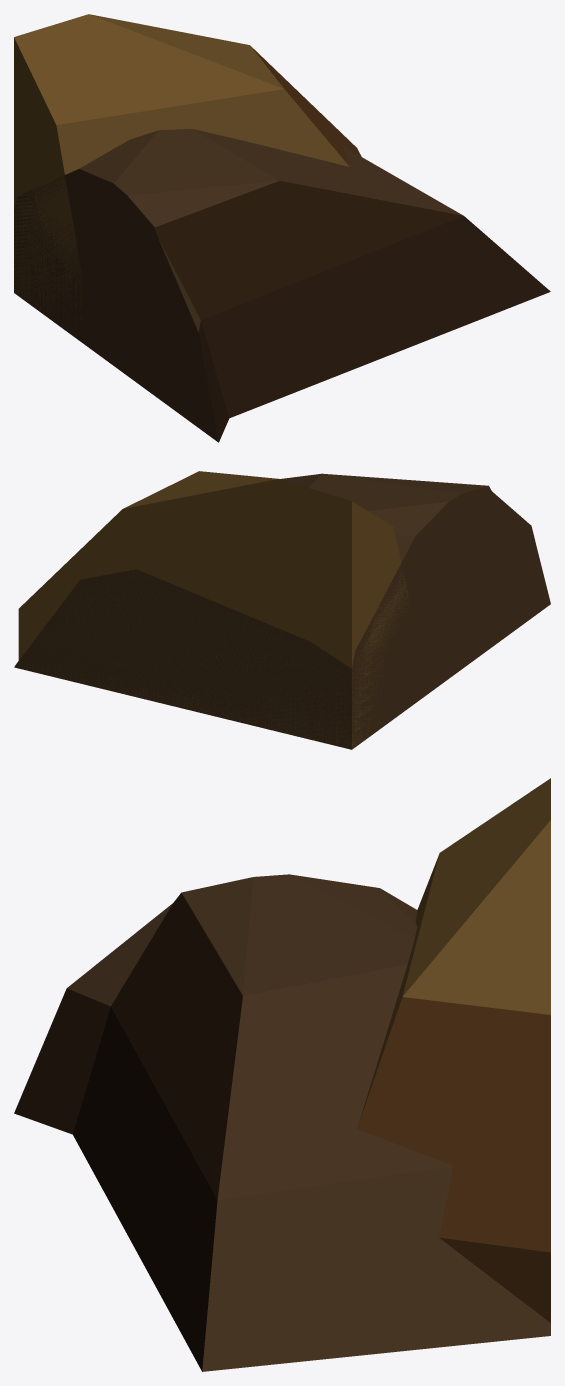
Rendered from newshr-279.glb.
3 renders of one model, top to bottom at view 1: azimuth 30°, elevation 25°; view 2: azimuth 150°, elevation 25°; view 3: azimuth 270°, elevation 25°, orthographic. The views are drawn at different scales.
Parts seen in each view (by area): view 1: newshr-279; view 2: newshr-279; view 3: newshr-279.
Part boxes in pixels (x1=…): newshr-279: x1=14, y1=14, x2=550, y2=442; newshr-279: x1=14, y1=471, x2=550, y2=749; newshr-279: x1=14, y1=778, x2=550, y2=1371.
Bounding box in the file's own units: 0.6063 × 0.3737 × 0.5324.
